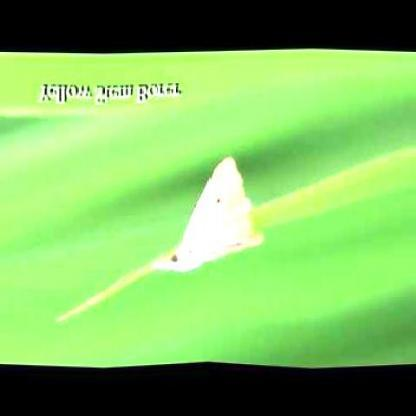stem-borer: (148, 153, 266, 275)
